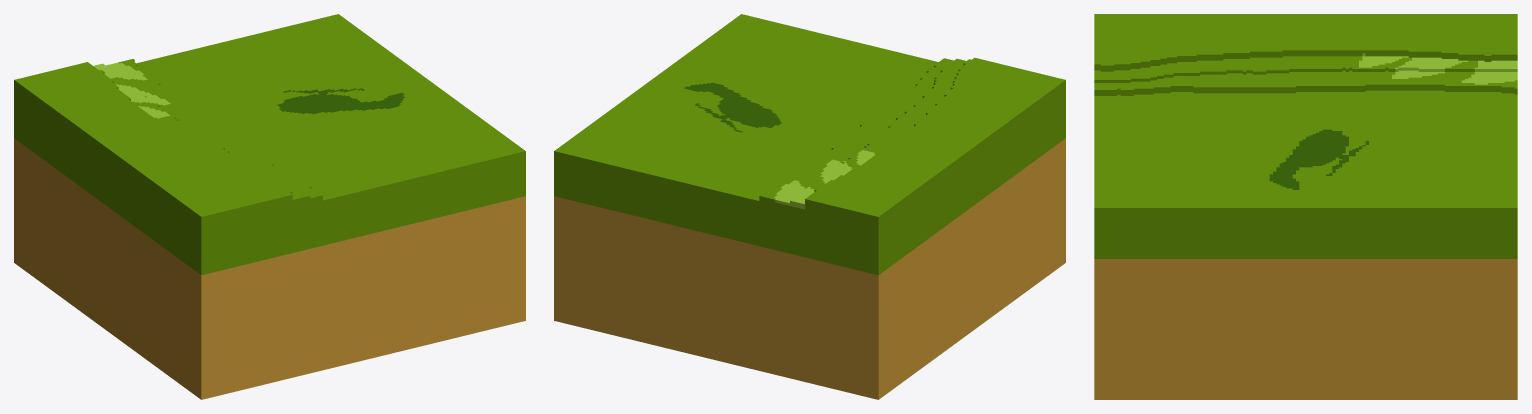
3 renders of one model, left to right at view 1: azimuth 30°, elevation 25°; view 2: azimuth 150°, elevation 25°; view 3: azimuth 270°, elevation 25°, orthographic. The views are drawn at different scales.
Visible parts, largest first — view 1: 16I; view 2: 16I; view 3: 16I.
Boxes of the visible parts, x1=… form: 16I: x1=14, y1=14, x2=525, y2=399; 16I: x1=554, y1=14, x2=1065, y2=399; 16I: x1=1094, y1=14, x2=1517, y2=399.
Size of the model in its own units: 12.8 by 6.9 by 12.8.
Materials: 1 (1 with a texture image).
